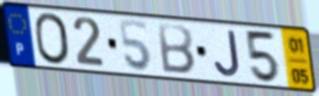2: (71, 15, 107, 70)
5: (244, 28, 282, 85), (117, 17, 154, 75)
B: (156, 21, 197, 77)
J: (212, 28, 243, 79)
O: (32, 11, 73, 67)
